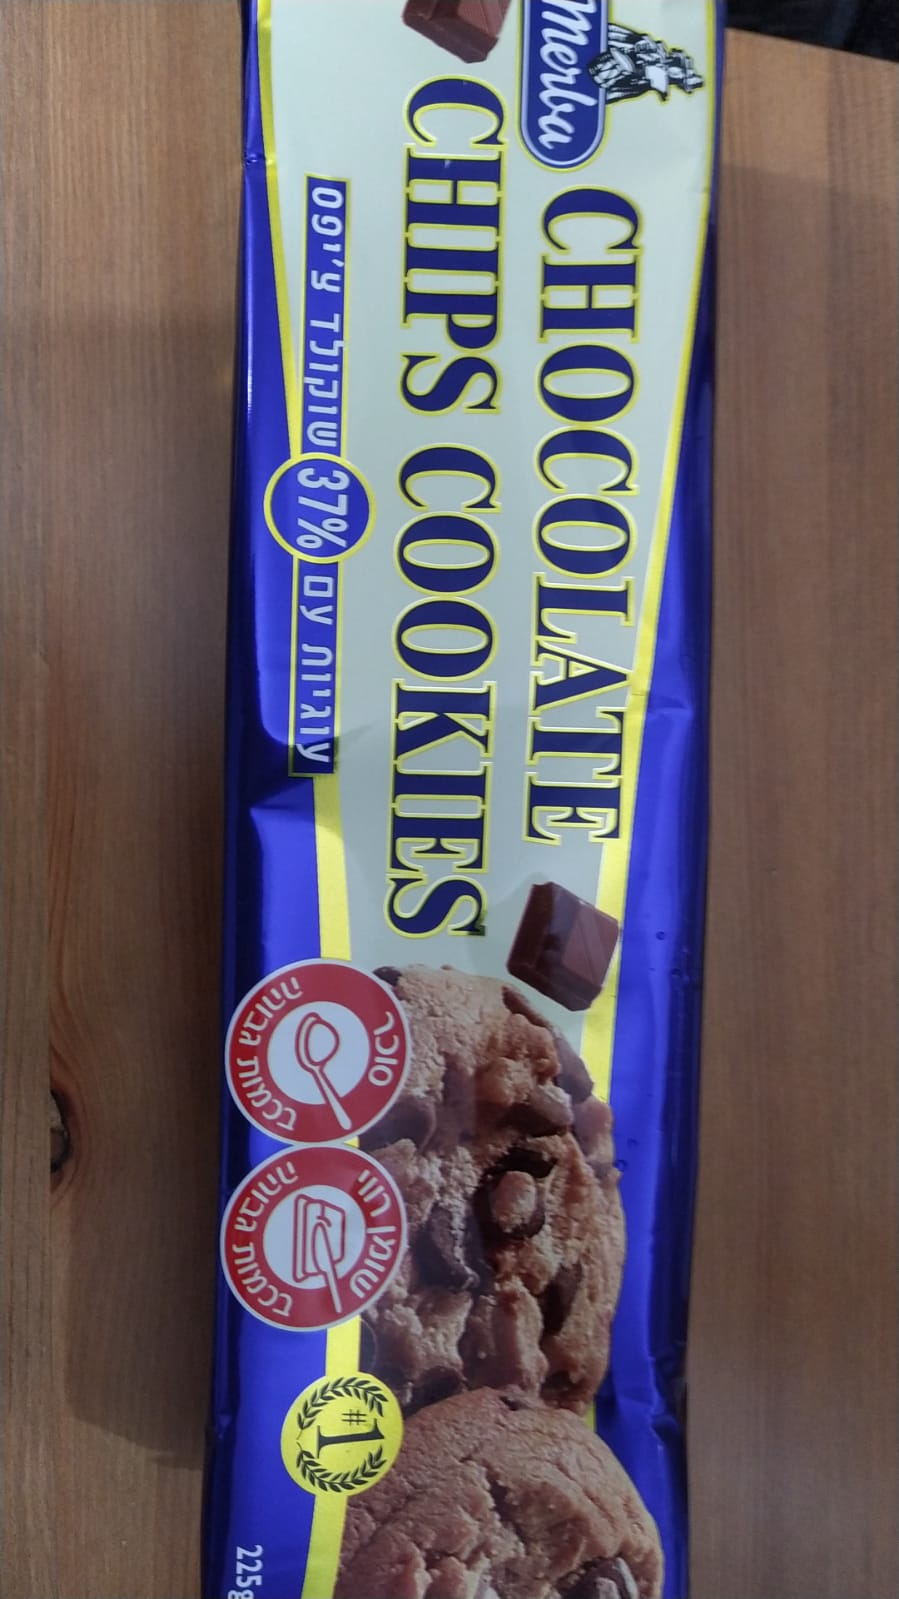fat: (218, 1144, 406, 1340)
sugar: (226, 952, 415, 1145)
